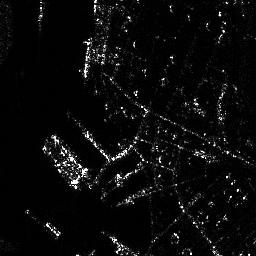ship: (80, 37, 93, 78)
